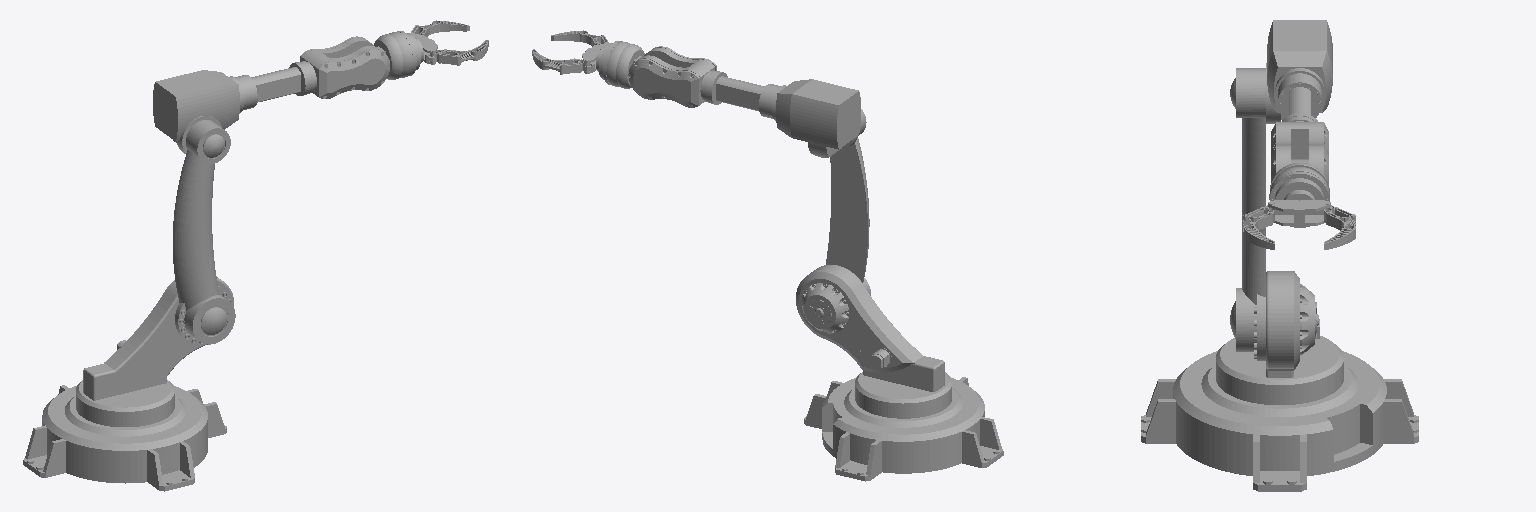
robot.urdf — robotic_arm:
<?xml version="1.0" ?>
<!-- =================================================================================== -->
<!-- |    This document was autogenerated by xacro from [local-path]/catkin_ws/src/robotic_arm_description/robotic_arm_description/urdf/robotic_arm.xacro | -->
<!-- |    EDITING THIS FILE BY HAND IS NOT RECOMMENDED                                 | -->
<!-- =================================================================================== -->
<robot name="robotic_arm">
    <material name="silver">
        <color rgba="0.700 0.700 0.700 1.000" />
    </material>
    <transmission name="Revolute_12_tran">
        <type>transmission_interface/SimpleTransmission</type>
        <joint name="Revolute_12">
            <hardwareInterface>hardware_interface/EffortJointInterface</hardwareInterface>
        </joint>
        <actuator name="Revolute_12_actr">
            <hardwareInterface>hardware_interface/EffortJointInterface</hardwareInterface>
            <mechanicalReduction>1</mechanicalReduction>
        </actuator>
    </transmission>
    <transmission name="Revolute_13_tran">
        <type>transmission_interface/SimpleTransmission</type>
        <joint name="Revolute_13">
            <hardwareInterface>hardware_interface/EffortJointInterface</hardwareInterface>
        </joint>
        <actuator name="Revolute_13_actr">
            <hardwareInterface>hardware_interface/EffortJointInterface</hardwareInterface>
            <mechanicalReduction>1</mechanicalReduction>
        </actuator>
    </transmission>
    <transmission name="Revolute_14_tran">
        <type>transmission_interface/SimpleTransmission</type>
        <joint name="Revolute_14">
            <hardwareInterface>hardware_interface/EffortJointInterface</hardwareInterface>
        </joint>
        <actuator name="Revolute_14_actr">
            <hardwareInterface>hardware_interface/EffortJointInterface</hardwareInterface>
            <mechanicalReduction>1</mechanicalReduction>
        </actuator>
    </transmission>
    <transmission name="Revolute_15_tran">
        <type>transmission_interface/SimpleTransmission</type>
        <joint name="Revolute_15">
            <hardwareInterface>hardware_interface/EffortJointInterface</hardwareInterface>
        </joint>
        <actuator name="Revolute_15_actr">
            <hardwareInterface>hardware_interface/EffortJointInterface</hardwareInterface>
            <mechanicalReduction>1</mechanicalReduction>
        </actuator>
    </transmission>
    <transmission name="Revolute_16_tran">
        <type>transmission_interface/SimpleTransmission</type>
        <joint name="Revolute_16">
            <hardwareInterface>hardware_interface/EffortJointInterface</hardwareInterface>
        </joint>
        <actuator name="Revolute_16_actr">
            <hardwareInterface>hardware_interface/EffortJointInterface</hardwareInterface>
            <mechanicalReduction>1</mechanicalReduction>
        </actuator>
    </transmission>
    <transmission name="Revolute_17_tran">
        <type>transmission_interface/SimpleTransmission</type>
        <joint name="Revolute_17">
            <hardwareInterface>hardware_interface/EffortJointInterface</hardwareInterface>
        </joint>
        <actuator name="Revolute_17_actr">
            <hardwareInterface>hardware_interface/EffortJointInterface</hardwareInterface>
            <mechanicalReduction>1</mechanicalReduction>
        </actuator>
    </transmission>
    <transmission name="Revolute_22_tran">
        <type>transmission_interface/SimpleTransmission</type>
        <joint name="Revolute_22">
            <hardwareInterface>hardware_interface/EffortJointInterface</hardwareInterface>
        </joint>
        <actuator name="Revolute_22_actr">
            <hardwareInterface>hardware_interface/EffortJointInterface</hardwareInterface>
            <mechanicalReduction>1</mechanicalReduction>
        </actuator>
    </transmission>
    <transmission name="Revolute_24_tran">
        <type>transmission_interface/SimpleTransmission</type>
        <joint name="Revolute_24">
            <hardwareInterface>hardware_interface/EffortJointInterface</hardwareInterface>
        </joint>
        <actuator name="Revolute_24_actr">
            <hardwareInterface>hardware_interface/EffortJointInterface</hardwareInterface>
            <mechanicalReduction>1</mechanicalReduction>
        </actuator>
    </transmission>
    <gazebo>
        <plugin filename="libgazebo_ros_control.so" name="control" />
        <plugin name="gazebo_ros_control" filename="libgazebo_ros_control.so">
            <robotNamespace>/</robotNamespace>
        </plugin>
    </gazebo>
    <gazebo reference="base_link">
        <material>Gazebo/Silver</material>
        <mu1>0.2</mu1>
        <mu2>0.2</mu2>
        <selfCollide>true</selfCollide>
        <gravity>true</gravity>
    </gazebo>
    <gazebo reference="jaw1_1">
        <material>Gazebo/Silver</material>
        <mu1>0.2</mu1>
        <mu2>0.2</mu2>
        <selfCollide>true</selfCollide>
    </gazebo>
    <gazebo reference="jaw2_1">
        <material>Gazebo/Silver</material>
        <mu1>0.2</mu1>
        <mu2>0.2</mu2>
        <selfCollide>true</selfCollide>
    </gazebo>
    <gazebo reference="jaw3_1">
        <material>Gazebo/Silver</material>
        <mu1>0.2</mu1>
        <mu2>0.2</mu2>
        <selfCollide>true</selfCollide>
    </gazebo>
    <gazebo reference="jaw4_1">
        <material>Gazebo/Silver</material>
        <mu1>0.2</mu1>
        <mu2>0.2</mu2>
        <selfCollide>true</selfCollide>
    </gazebo>
    <gazebo reference="jaw5_1">
        <material>Gazebo/Silver</material>
        <mu1>0.2</mu1>
        <mu2>0.2</mu2>
        <selfCollide>true</selfCollide>
    </gazebo>
    <gazebo reference="jaw6_1">
        <material>Gazebo/Silver</material>
        <mu1>0.2</mu1>
        <mu2>0.2</mu2>
        <selfCollide>true</selfCollide>
    </gazebo>
    <gazebo reference="jaw7.1_1">
        <material>Gazebo/Silver</material>
        <mu1>0.2</mu1>
        <mu2>0.2</mu2>
        <selfCollide>true</selfCollide>
    </gazebo>
    <gazebo reference="jaw7.2_1">
        <material>Gazebo/Silver</material>
        <mu1>0.2</mu1>
        <mu2>0.2</mu2>
        <selfCollide>true</selfCollide>
    </gazebo>
    <link name="world" />
    <joint name="base_joint" type="fixed">
        <parent link="world" />
        <child link="base_link" />
        <origin rpy="0 0 3.141592653589793" xyz="0.0 0.0 0.00" />
    </joint>
    <link name="base_link">
        <inertial>
            <origin rpy="0 0 0" xyz="0.001959497114940088 0.05978383996103833 0.03890078890987177" />
            <mass value="45.32032017365632" />
            <inertia ixx="0.286642" ixy="0.006277" ixz="-0.000324" iyy="0.286642" iyz="-0.000324" izz="0.523382" />
        </inertial>
        <visual>
            <origin rpy="0 0 0" xyz="0 0 0" />
            <geometry>
                <mesh filename="package://robotic_arm_description/meshes/base_link.stl" scale="0.001 0.001 0.001" />
            </geometry>
            <material name="silver" />
        </visual>
        <collision>
            <origin rpy="0 0 0" xyz="0 0 0" />
            <geometry>
                <mesh filename="package://robotic_arm_description/meshes/base_link.stl" scale="0.001 0.001 0.001" />
            </geometry>
        </collision>
    </link>
    <link name="jaw1_1">
        <inertial>
            <origin rpy="0 0 0" xyz="-0.05909431116233142 -0.004006139353276157 0.08486906818603877" />
            <mass value="18.786497279184598" />
            <inertia ixx="0.097516" ixy="-0.004893" ixz="0.074275" iyy="0.193949" iyz="0.004445" izz="0.13248" />
        </inertial>
        <visual>
            <origin rpy="0 0 0" xyz="-0.000534 -0.058358 -0.084193" />
            <geometry>
                <mesh filename="package://robotic_arm_description/meshes/jaw1_1.stl" scale="0.001 0.001 0.001" />
            </geometry>
            <material name="silver" />
        </visual>
        <collision>
            <origin rpy="0 0 0" xyz="-0.000534 -0.058358 -0.084193" />
            <geometry>
                <mesh filename="package://robotic_arm_description/meshes/jaw1_1.stl" scale="0.001 0.001 0.001" />
            </geometry>
        </collision>
    </link>
    <link name="jaw2_1">
        <inertial>
            <origin rpy="0 0 0" xyz="0.009396645752536514 0.016346673293803182 0.14982483184809242" />
            <mass value="8.268509087861013" />
            <inertia ixx="0.148718" ixy="0.000176" ixz="-0.001868" iyy="0.15176" iyz="0.000132" izz="0.005454" />
        </inertial>
        <visual>
            <origin rpy="0 0 0" xyz="0.149466 -0.078358 -0.244193" />
            <geometry>
                <mesh filename="package://robotic_arm_description/meshes/jaw2_1.stl" scale="0.001 0.001 0.001" />
            </geometry>
            <material name="silver" />
        </visual>
        <collision>
            <origin rpy="0 0 0" xyz="0.149466 -0.078358 -0.244193" />
            <geometry>
                <mesh filename="package://robotic_arm_description/meshes/jaw2_1.stl" scale="0.001 0.001 0.001" />
            </geometry>
        </collision>
    </link>
    <link name="jaw3_1">
        <inertial>
            <origin rpy="0 0 0" xyz="-0.0440646053080877 -0.04638873406015811 0.0386121340726453" />
            <mass value="11.356819633945126" />
            <inertia ixx="0.015087" ixy="-0.000806" ixz="0.002822" iyy="0.066371" iyz="0.000957" izz="0.063354" />
        </inertial>
        <visual>
            <origin rpy="0 0 0" xyz="0.149466 -0.078358 -0.594193" />
            <geometry>
                <mesh filename="package://robotic_arm_description/meshes/jaw3_1.stl" scale="0.001 0.001 0.001" />
            </geometry>
            <material name="silver" />
        </visual>
        <collision>
            <origin rpy="0 0 0" xyz="0.149466 -0.078358 -0.594193" />
            <geometry>
                <mesh filename="package://robotic_arm_description/meshes/jaw3_1.stl" scale="0.001 0.001 0.001" />
            </geometry>
        </collision>
    </link>
    <link name="jaw4_1">
        <inertial>
            <origin rpy="0 0 0" xyz="-0.06936002908715583 3.497152024183048e-07 -3.3635927376707286e-09" />
            <mass value="4.590924229482726" />
            <inertia ixx="0.004483" ixy="0.0" ixz="-0.0" iyy="0.010937" iyz="0.0" izz="0.012117" />
        </inertial>
        <visual>
            <origin rpy="0 0 0" xyz="0.395729 -0.030358 -0.638445" />
            <geometry>
                <mesh filename="package://robotic_arm_description/meshes/jaw4_1.stl" scale="0.001 0.001 0.001" />
            </geometry>
            <material name="silver" />
        </visual>
        <collision>
            <origin rpy="0 0 0" xyz="0.395729 -0.030358 -0.638445" />
            <geometry>
                <mesh filename="package://robotic_arm_description/meshes/jaw4_1.stl" scale="0.001 0.001 0.001" />
            </geometry>
        </collision>
    </link>
    <link name="jaw5_1">
        <inertial>
            <origin rpy="0 0 0" xyz="-0.05742274909820899 -0.012074329975050303 -1.3415845545594607e-08" />
            <mass value="2.620268703215457" />
            <inertia ixx="0.00186" ixy="8e-06" ixz="-0.0" iyy="0.002813" iyz="0.0" izz="0.002794" />
        </inertial>
        <visual>
            <origin rpy="0 0 0" xyz="0.510729 -0.042858 -0.638445" />
            <geometry>
                <mesh filename="package://robotic_arm_description/meshes/jaw5_1.stl" scale="0.001 0.001 0.001" />
            </geometry>
            <material name="silver" />
        </visual>
        <collision>
            <origin rpy="0 0 0" xyz="0.510729 -0.042858 -0.638445" />
            <geometry>
                <mesh filename="package://robotic_arm_description/meshes/jaw5_1.stl" scale="0.001 0.001 0.001" />
            </geometry>
        </collision>
    </link>
    <link name="jaw6_1">
        <inertial>
            <origin rpy="0 0 0" xyz="-0.01670255088998085 3.481973394128812e-07 1.54420520739329e-05" />
            <mass value="0.6134273281691381" />
            <inertia ixx="0.000336" ixy="0.0" ixz="0.0" iyy="0.000257" iyz="0.0" izz="0.000324" />
        </inertial>
        <visual>
            <origin rpy="0 0 0" xyz="0.603729 -0.030858 -0.638445" />
            <geometry>
                <mesh filename="package://robotic_arm_description/meshes/jaw6_1.stl" scale="0.001 0.001 0.001" />
            </geometry>
            <material name="silver" />
        </visual>
        <collision>
            <origin rpy="0 0 0" xyz="0.603729 -0.030858 -0.638445" />
            <geometry>
                <mesh filename="package://robotic_arm_description/meshes/jaw6_1.stl" scale="0.001 0.001 0.001" />
            </geometry>
        </collision>
    </link>
    <link name="jaw7.1_1">
        <inertial>
            <origin rpy="0 0 0" xyz="-0.04724180067561057 0.017982710949063882 -0.008596920840052924" />
            <mass value="0.17039946788074226" />
            <inertia ixx="2.9e-05" ixy="2.1e-05" ixz="0.0" iyy="0.000196" iyz="-0.0" izz="0.000219" />
        </inertial>
        <visual>
            <origin rpy="0 0 0" xyz="0.636621 -0.070168 -0.647445" />
            <geometry>
                <mesh filename="package://robotic_arm_description/meshes/jaw7.1_1.stl" scale="0.001 0.001 0.001" />
            </geometry>
            <material name="silver" />
        </visual>
        <collision>
            <origin rpy="0 0 0" xyz="0.636621 -0.070168 -0.647445" />
            <geometry>
                <mesh filename="package://robotic_arm_description/meshes/jaw7.1_1.stl" scale="0.001 0.001 0.001" />
            </geometry>
        </collision>
    </link>
    <link name="jaw7.2_1">
        <inertial>
            <origin rpy="0 0 0" xyz="-0.04724180067561157 -0.01798301455438199 -0.008596920840050148" />
            <mass value="0.17039946788074223" />
            <inertia ixx="2.9e-05" ixy="-2.1e-05" ixz="0.0" iyy="0.000196" iyz="0.0" izz="0.000219" />
        </inertial>
        <visual>
            <origin rpy="0 0 0" xyz="0.636621 0.008451 -0.647445" />
            <geometry>
                <mesh filename="package://robotic_arm_description/meshes/jaw7.2_1.stl" scale="0.001 0.001 0.001" />
            </geometry>
            <material name="silver" />
        </visual>
        <collision>
            <origin rpy="0 0 0" xyz="0.636621 0.008451 -0.647445" />
            <geometry>
                <mesh filename="package://robotic_arm_description/meshes/jaw7.2_1.stl" scale="0.001 0.001 0.001" />
            </geometry>
        </collision>
    </link>
    <joint name="Revolute_12" type="revolute">
        <origin rpy="0 0 0" xyz="0.000534 0.058358 0.084193" />
        <parent link="base_link" />
        <child link="jaw1_1" />
        <axis xyz="-0.0 -0.0 -1.0" />
        <limit effort="100" lower="0.0" upper="6.283185" velocity="100" />
    </joint>
    <joint name="Revolute_13" type="revolute">
        <origin rpy="0 0 0" xyz="-0.15 0.02 0.16" />
        <parent link="jaw1_1" />
        <child link="jaw2_1" />
        <axis xyz="-0.0 -1.0 -0.0" />
        <limit effort="100" lower="-1.047198" upper="1.570796" velocity="100" />
    </joint>
    <joint name="Revolute_14" type="revolute">
        <origin rpy="0 0 0" xyz="0.0 0.0 0.35" />
        <parent link="jaw2_1" />
        <child link="jaw3_1" />
        <axis xyz="0.0 1.0 0.0" />
        <limit effort="100" lower="-0.523599" upper="3.141593" velocity="100" />
    </joint>
    <joint name="Revolute_15" type="revolute">
        <origin rpy="0 0 0" xyz="-0.246263 -0.048 0.044252" />
        <parent link="jaw3_1" />
        <child link="jaw4_1" />
        <axis xyz="1.0 -0.0 0.0" />
        <limit effort="100" lower="0.0" upper="3.141593" velocity="100" />
    </joint>
    <joint name="Revolute_16" type="revolute">
        <origin rpy="0 0 0" xyz="-0.115 0.0125 0.0" />
        <parent link="jaw4_1" />
        <child link="jaw5_1" />
        <axis xyz="0.0 1.0 0.0" />
        <limit effort="100" lower="-1.745329" upper="1.745329" velocity="100" />
    </joint>
    <joint name="Revolute_17" type="revolute">
        <origin rpy="0 0 0" xyz="-0.093 -0.012 0.0" />
        <parent link="jaw5_1" />
        <child link="jaw6_1" />
        <axis xyz="1.0 0.0 0.0" />
        <limit effort="100" lower="0.0" upper="3.141593" velocity="100" />
    </joint>
    <joint name="Revolute_22" type="revolute">
        <origin rpy="0 0 0" xyz="-0.032892 0.03931 0.009" />
        <parent link="jaw6_1" />
        <child link="jaw7.1_1" />
        <axis xyz="-0.0 0.0 1.0" />
        <limit effort="100" lower="-1.570796" upper="0.292343" velocity="100" />
    </joint>
    <joint name="Revolute_24" type="revolute">
        <origin rpy="0 0 0" xyz="-0.032892 -0.039309 0.009" />
        <parent link="jaw6_1" />
        <child link="jaw7.2_1" />
        <axis xyz="-0.0 0.0 1.0" />
        <limit effort="100" lower="-0.292343" upper="1.570796" velocity="100" />
    </joint>
</robot>

--- What the picture shows (computed from the rendered views, not written in the file) ---
3 views of the same robot in one strip: view 1: azimuth 30°, elevation 25°; view 2: azimuth 150°, elevation 25°; view 3: azimuth 270°, elevation 25° (orthographic).
Model robotic_arm with 10 links and 9 joints (8 revolute, 1 fixed), rooted at world, posed every joint at zero.
Links seen in each view (by area): view 1: base_link, jaw2_1, jaw1_1, jaw3_1, jaw4_1, jaw5_1, jaw7.1_1, jaw7.2_1, jaw6_1; view 2: base_link, jaw1_1, jaw3_1, jaw2_1, jaw4_1, jaw5_1, jaw7.2_1, jaw7.1_1; view 3: base_link, jaw1_1, jaw2_1, jaw3_1, jaw4_1, jaw6_1, jaw5_1, jaw7.1_1, jaw7.2_1.
Link boxes in pixels (x1=…): base_link: x1=23, y1=385, x2=226, y2=491; jaw2_1: x1=173, y1=120, x2=235, y2=344; jaw1_1: x1=76, y1=276, x2=233, y2=426; jaw3_1: x1=153, y1=61, x2=314, y2=153; jaw4_1: x1=300, y1=36, x2=389, y2=98; jaw5_1: x1=374, y1=31, x2=416, y2=79; jaw7.1_1: x1=425, y1=40, x2=488, y2=65; jaw7.2_1: x1=411, y1=20, x2=469, y2=36; jaw6_1: x1=407, y1=33, x2=437, y2=70; base_link: x1=804, y1=377, x2=1003, y2=481; jaw1_1: x1=796, y1=265, x2=951, y2=418; jaw3_1: x1=702, y1=70, x2=860, y2=157; jaw2_1: x1=826, y1=109, x2=870, y2=295; jaw4_1: x1=628, y1=46, x2=716, y2=107; jaw5_1: x1=603, y1=41, x2=644, y2=88; jaw7.2_1: x1=532, y1=49, x2=594, y2=74; jaw7.1_1: x1=551, y1=30, x2=608, y2=46; base_link: x1=1141, y1=351, x2=1418, y2=491; jaw1_1: x1=1216, y1=271, x2=1343, y2=404; jaw2_1: x1=1230, y1=68, x2=1265, y2=360; jaw3_1: x1=1266, y1=20, x2=1332, y2=123; jaw4_1: x1=1271, y1=121, x2=1328, y2=183; jaw6_1: x1=1268, y1=179, x2=1330, y2=226; jaw5_1: x1=1269, y1=159, x2=1329, y2=227; jaw7.1_1: x1=1243, y1=205, x2=1274, y2=249; jaw7.2_1: x1=1324, y1=205, x2=1355, y2=249.
Size in the robot's own frame: 0.951 by 0.3905 by 0.6833 metres.
9 mesh visuals loaded from 9 distinct referenced files (9 binary STL).